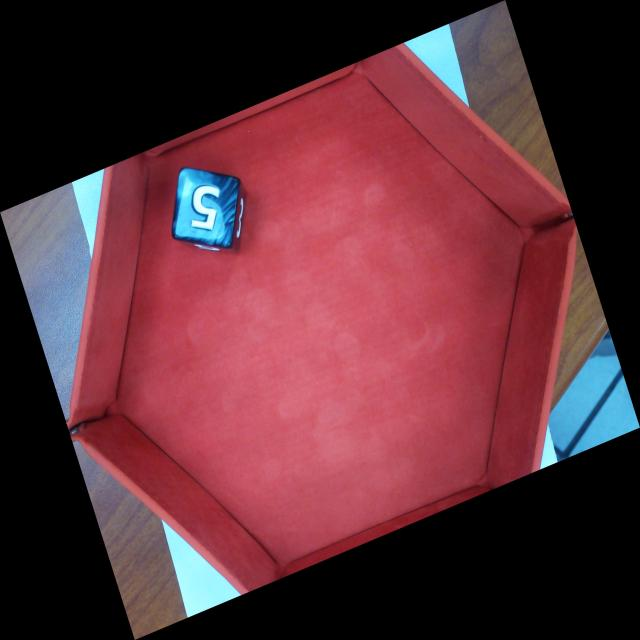dice: (175, 170, 240, 244)
